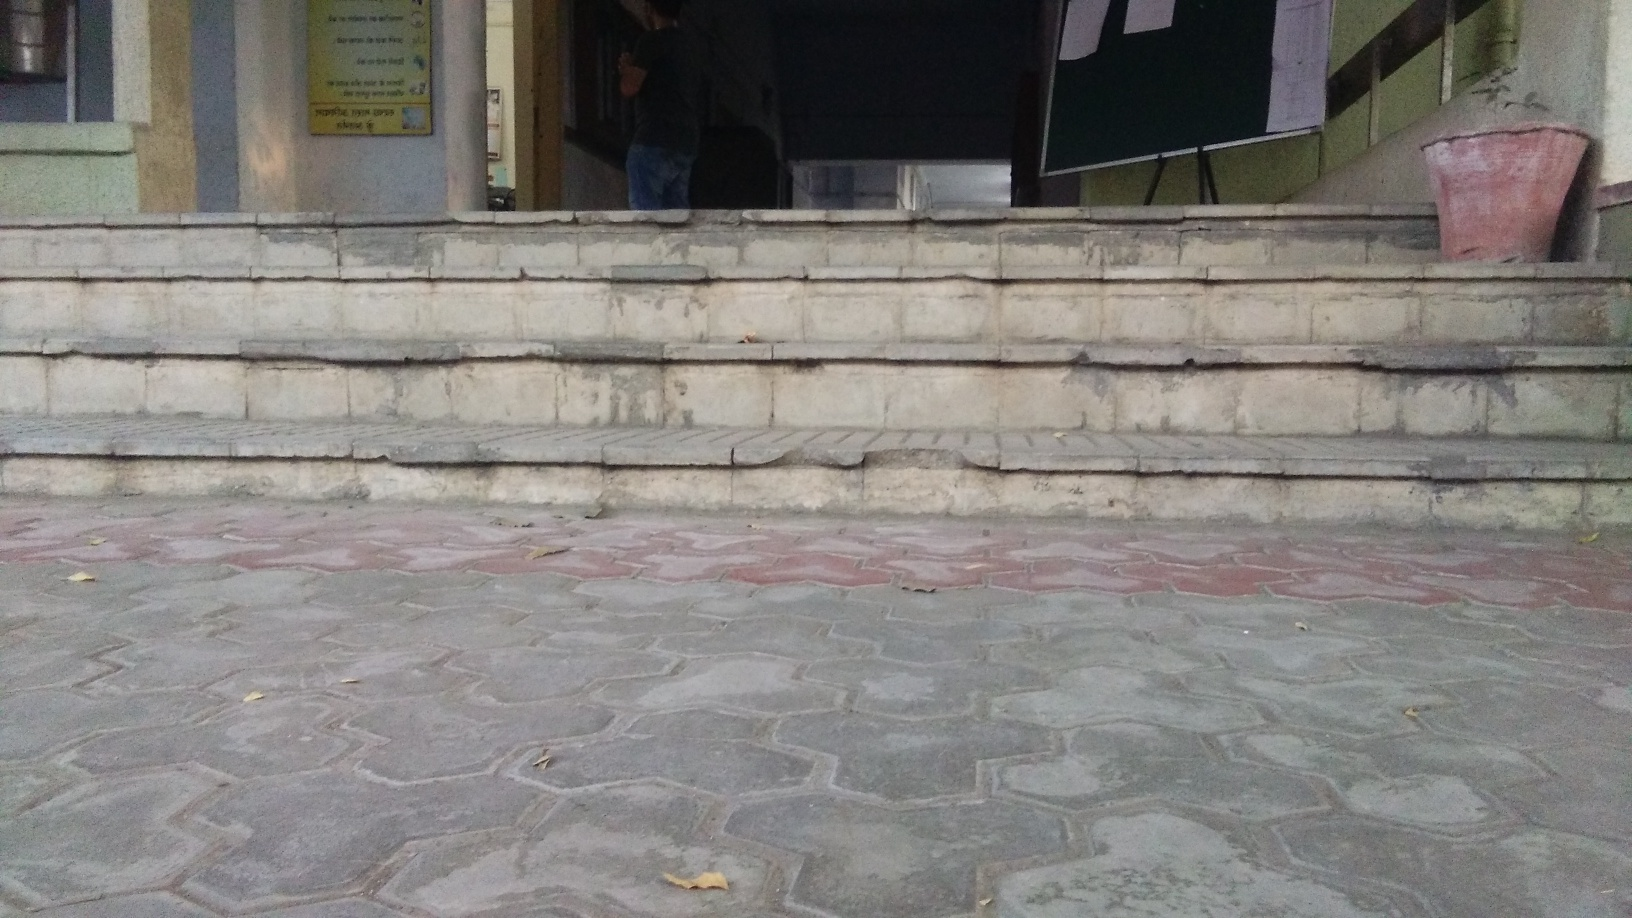stairs_up: (1, 198, 1632, 559)
